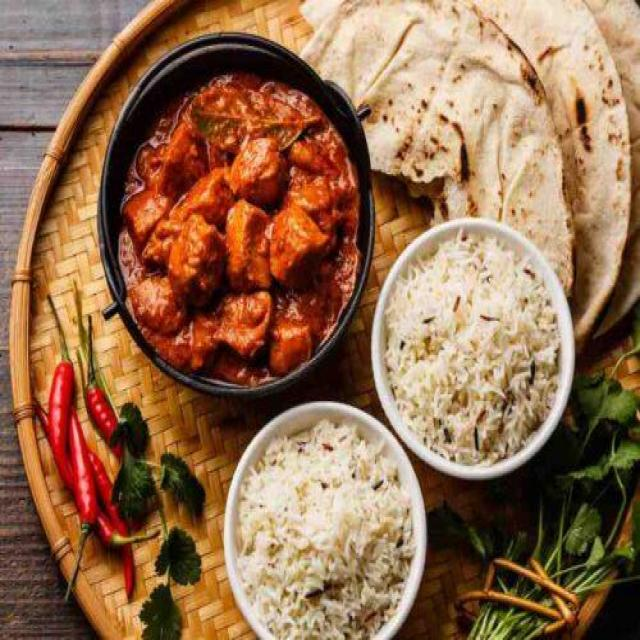chicken: (117, 88, 343, 365)
rice: (233, 422, 413, 640), (388, 248, 560, 444)
roti: (320, 4, 640, 268)
